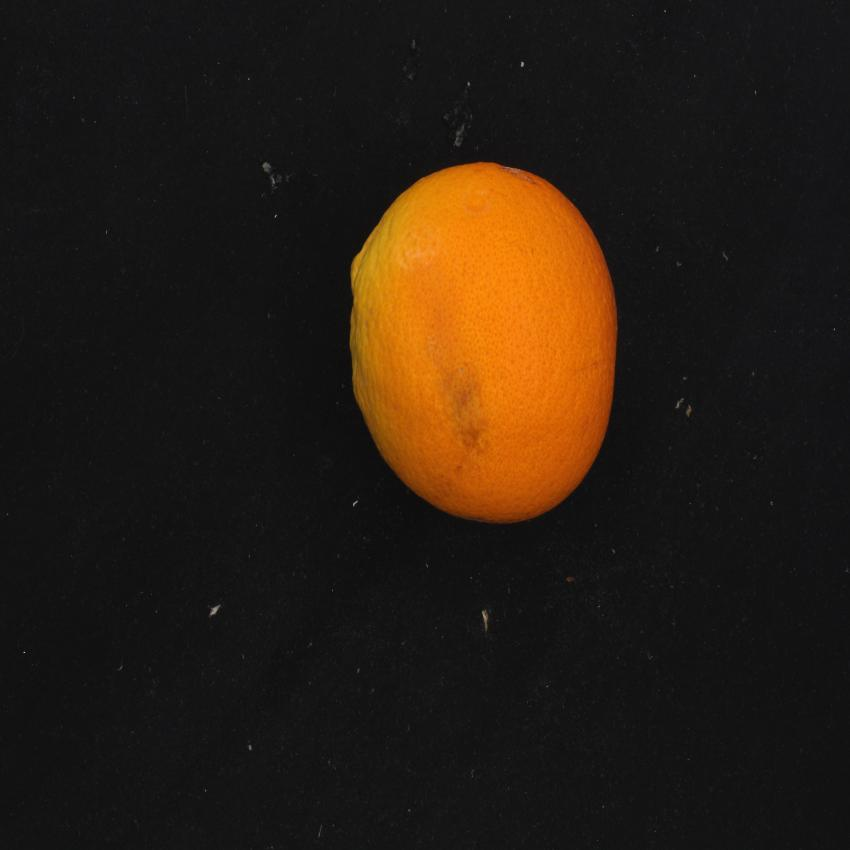Buen estado: (335, 149, 634, 548)
